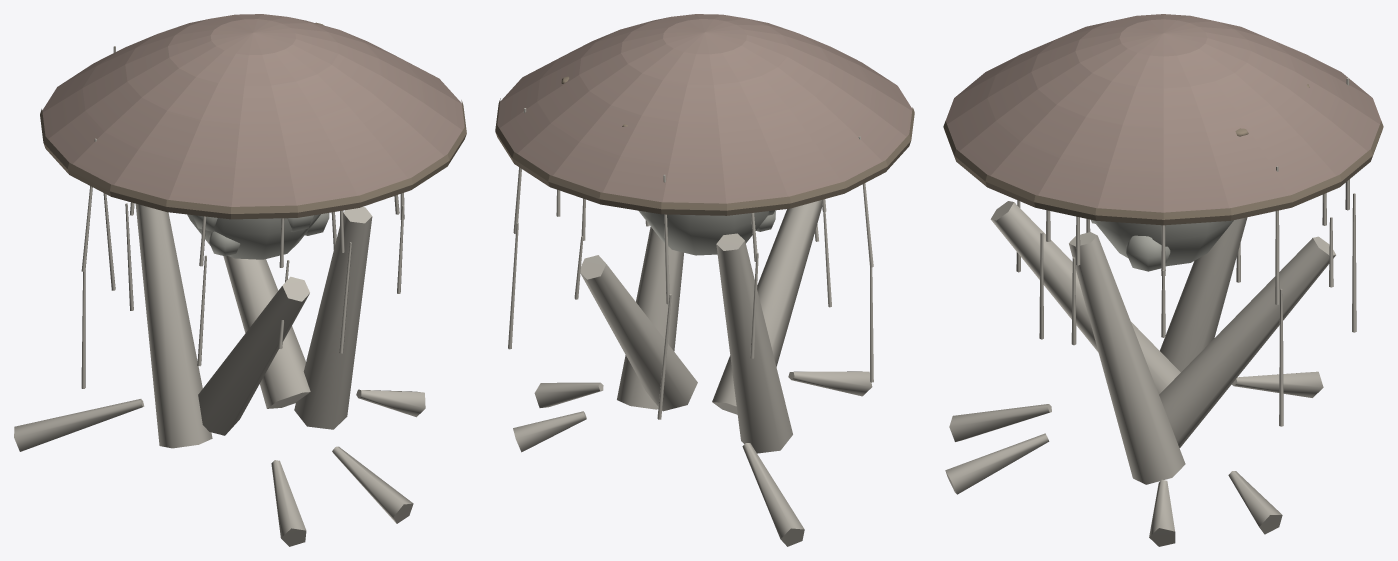
The model's file is mushroom-rooted.glb.
3 renders of one model, left to right at view 1: azimuth 30°, elevation 25°; view 2: azimuth 150°, elevation 25°; view 3: azimuth 270°, elevation 25°, orthographic. The views are drawn at different scales.
Parts seen in each view (by area): view 1: mushroom-rooted; view 2: mushroom-rooted; view 3: mushroom-rooted.
Part boxes in pixels (left/top/right/bottom): mushroom-rooted: left=14, top=14, right=466, bottom=546; mushroom-rooted: left=495, top=14, right=914, bottom=546; mushroom-rooted: left=943, top=14, right=1383, bottom=546.
Bounding box in the file's own units: 6.4 × 7.11 × 6.4.
